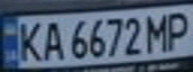2: (121, 14, 145, 56)
6: (66, 16, 90, 60), (87, 16, 109, 58)
7: (103, 15, 127, 57)
A: (39, 18, 66, 62)
K: (15, 18, 45, 63)
M: (142, 10, 172, 53)
P: (160, 7, 193, 52)
